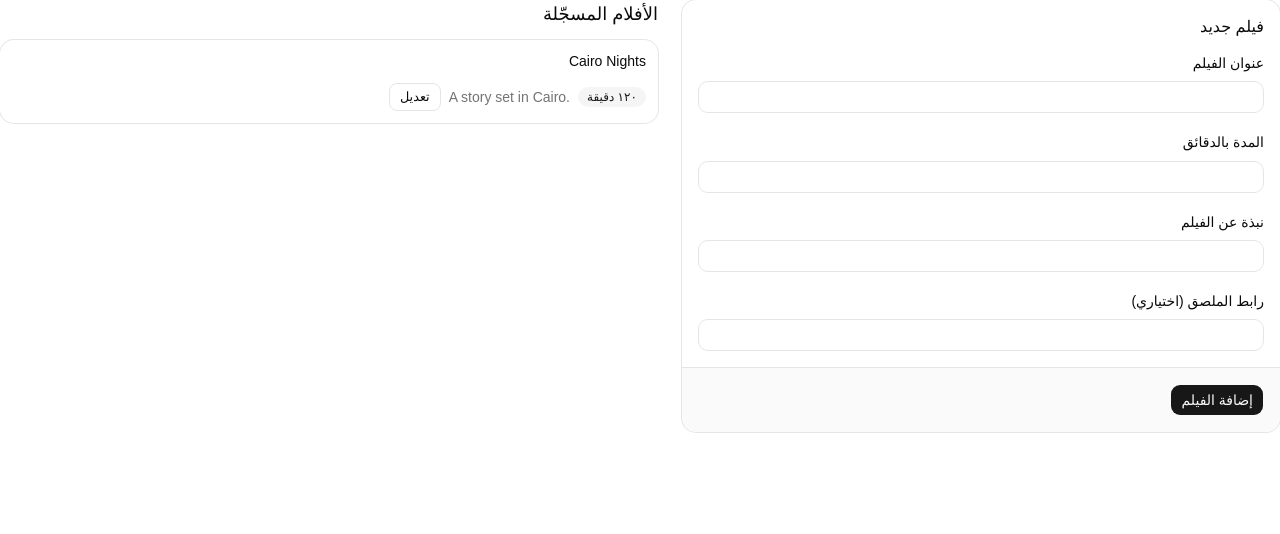
Test: FilmAdmin › shows validation messages and does not save when empty
This screenshot has width=1280, height=534.
Click the button "إضافة الفيلم" at (1217, 400), box 1170,384 -> 1264,416
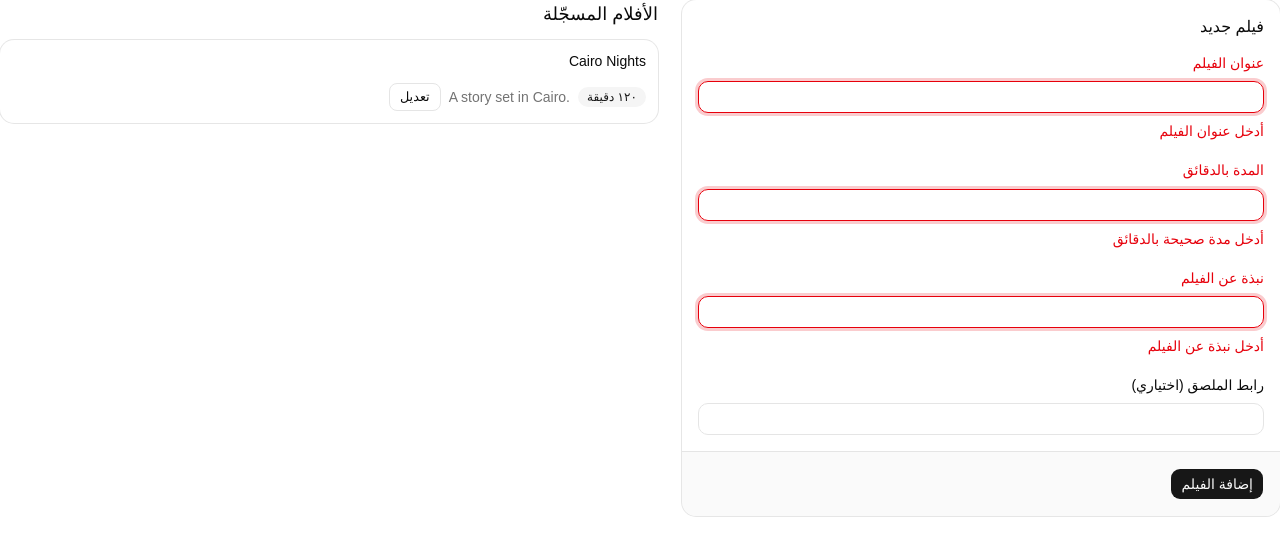
expect the text "أدخل عنوان الفيلم" is shown: met, box 1159,123 -> 1264,139
expect the text "أدخل مدة صحيحة بالدقائق" is shown: met, box 1113,230 -> 1264,246
expect the text "أدخل نبذة عن الفيلم" is shown: met, box 1148,338 -> 1264,354
